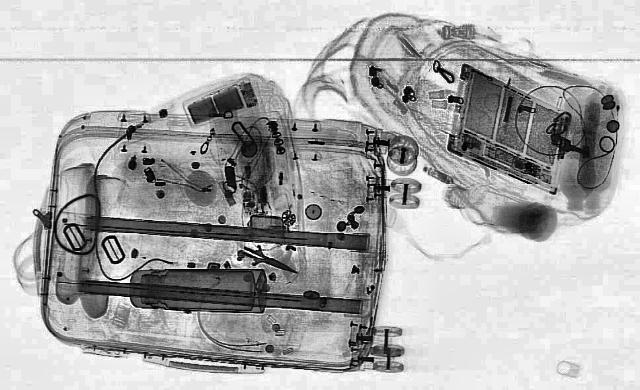Knife: (229, 240, 307, 280)
